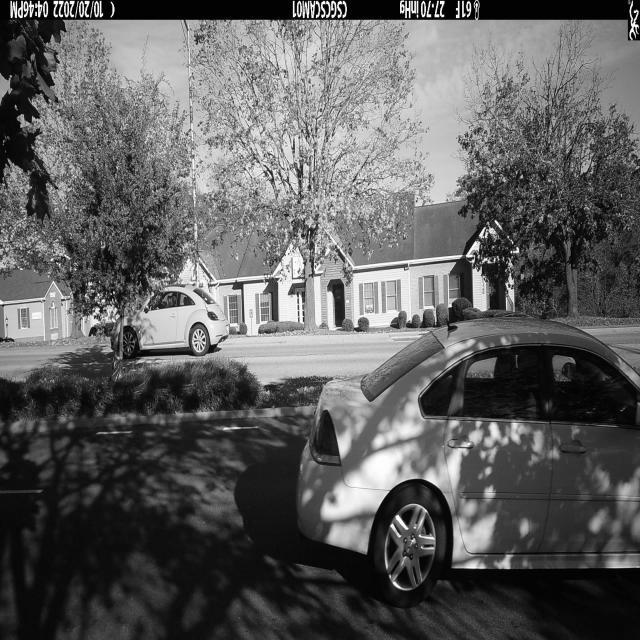Hatchback: (111, 284, 229, 358)
